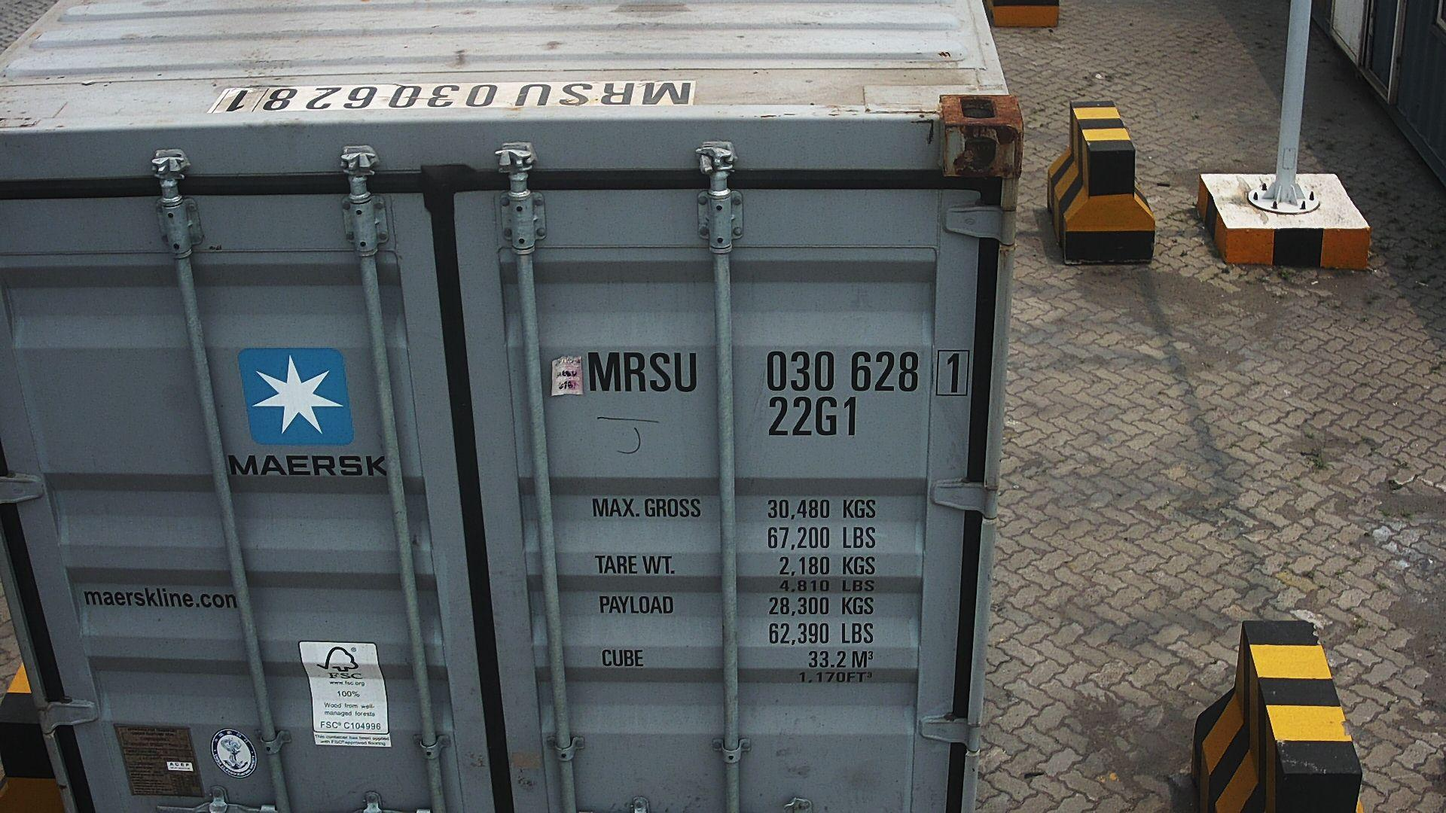container-numbers: (581, 345, 973, 399), (206, 80, 697, 116), (763, 394, 862, 441)
